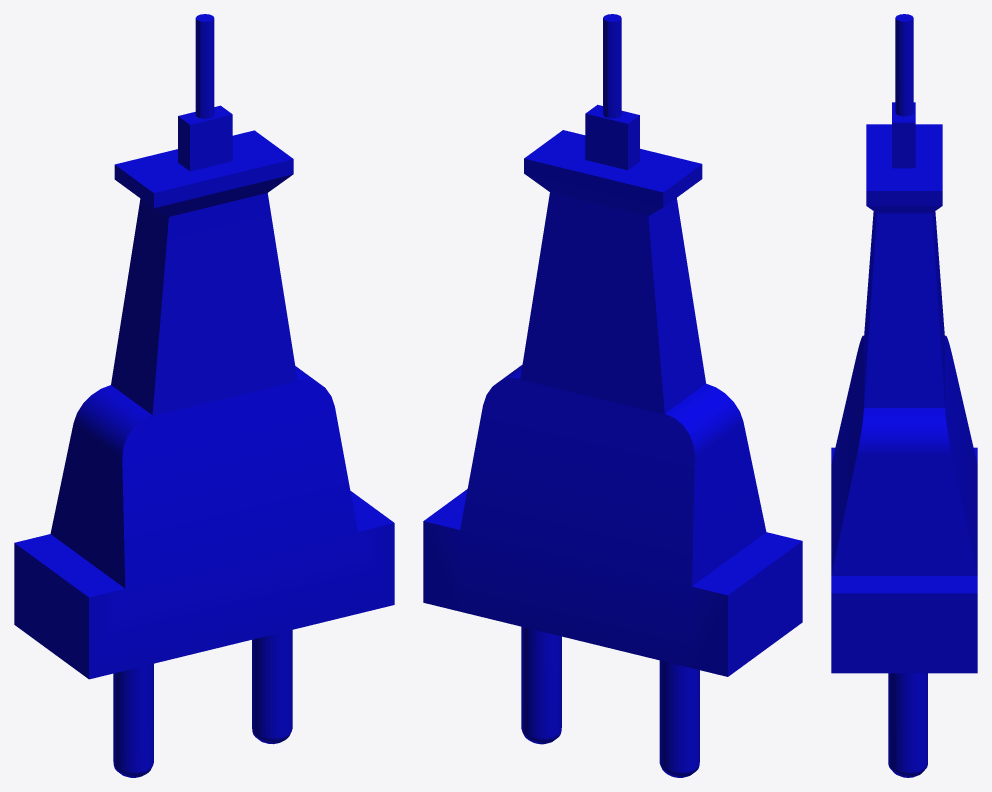
File: plug_v01.fbx
The picture shows the model from 3 angles, left to right: view 1: azimuth 30°, elevation 25°; view 2: azimuth 150°, elevation 25°; view 3: azimuth 270°, elevation 25°; orthographic projection. The views are drawn at different scales.
Visible parts, largest first — view 1: Plug; view 2: Plug; view 3: Plug.
Part boxes in pixels (<box>): Plug: <box>14,14,394,777</box>; Plug: <box>423,14,802,777</box>; Plug: <box>831,14,977,777</box>.
Size of the model in its own units: 4.14 by 9.59 by 1.75.
